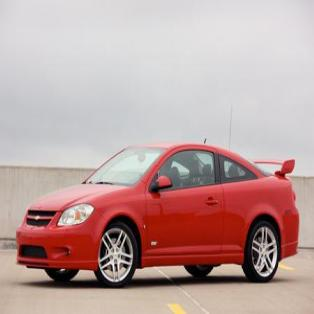Auto: (13, 134, 300, 289)
